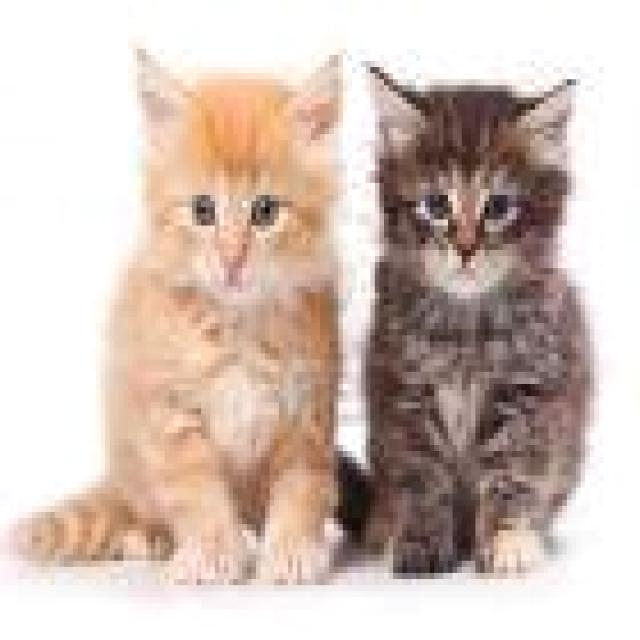KEDI: (2, 43, 350, 575), (354, 59, 606, 575)
